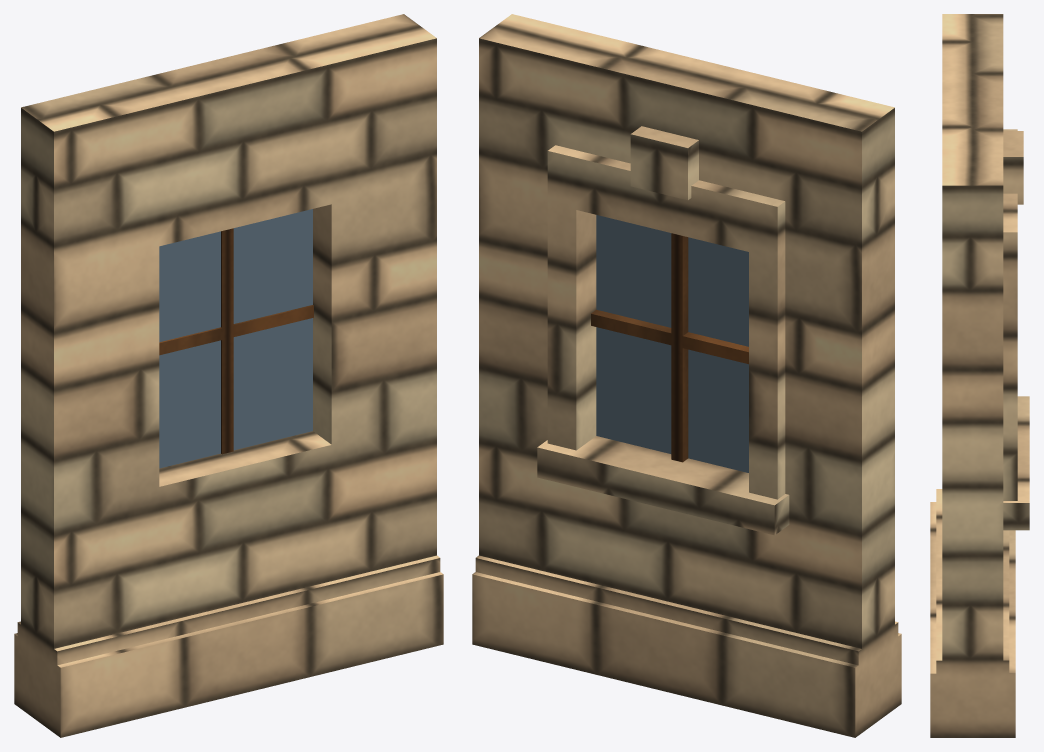
Rendered from wall_stone_window_2x3.glb.
3 renders of one model, left to right at view 1: azimuth 30°, elevation 25°; view 2: azimuth 150°, elevation 25°; view 3: azimuth 270°, elevation 25°, orthographic. The views are drawn at different scales.
Visible parts, largest first — view 1: wall_stone_window_2x3; view 2: wall_stone_window_2x3; view 3: wall_stone_window_2x3.
Boxes of the visible parts, x1,y1,x2,y2 form: wall_stone_window_2x3: (14,14,443,737); wall_stone_window_2x3: (472,14,901,737); wall_stone_window_2x3: (930,14,1029,737).
Bounding box in the file's own units: 2 × 3 × 0.49.
Materials: 3 (2 with a texture image).
